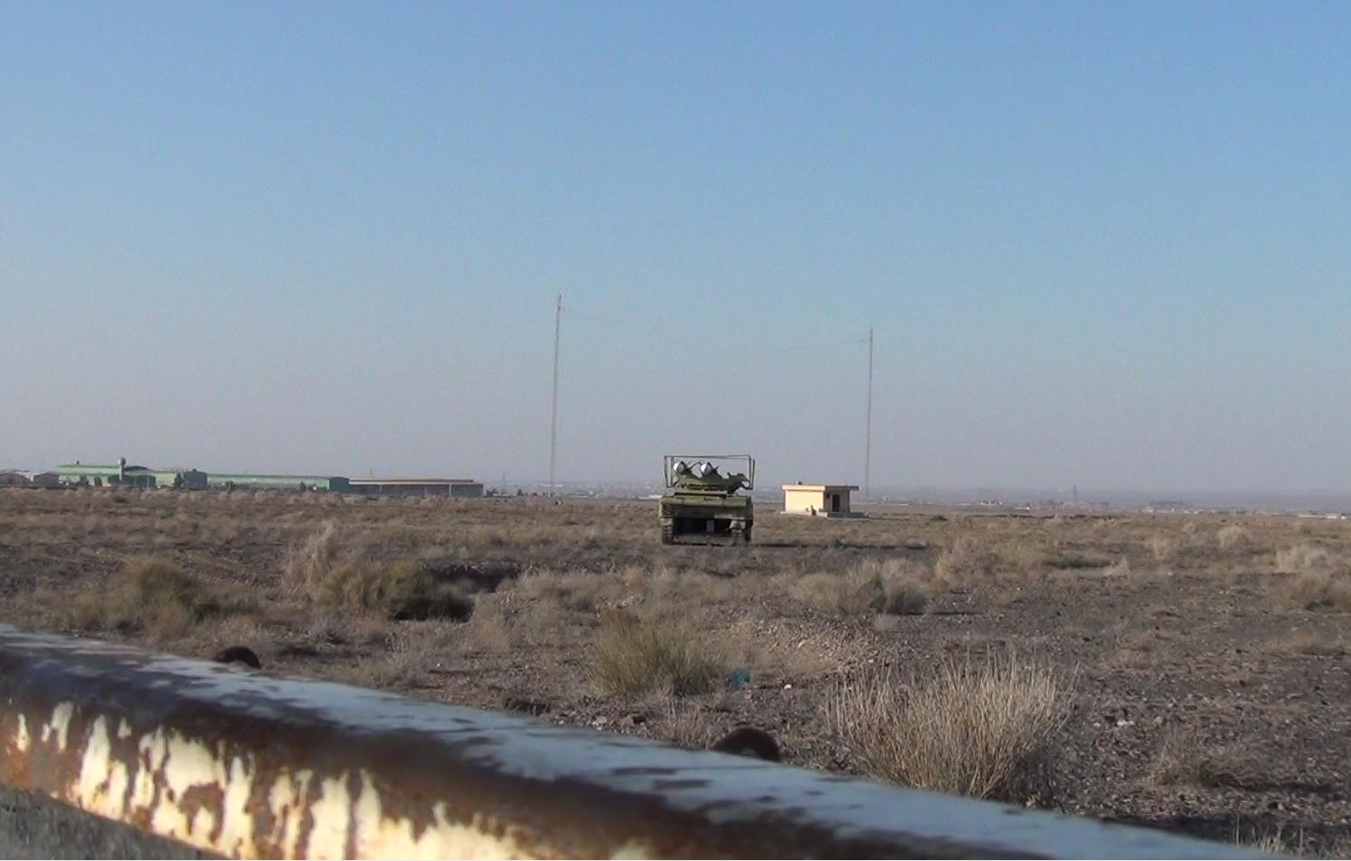armored_car: (652, 452, 756, 556)
